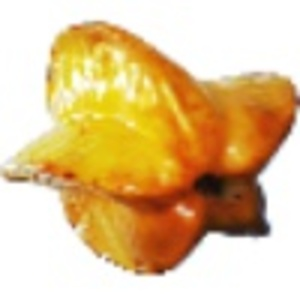carambola: (1, 17, 300, 278)
